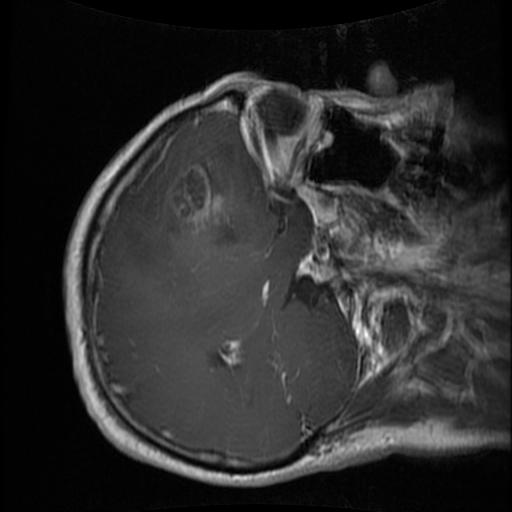glioma: (165, 162, 225, 232)
